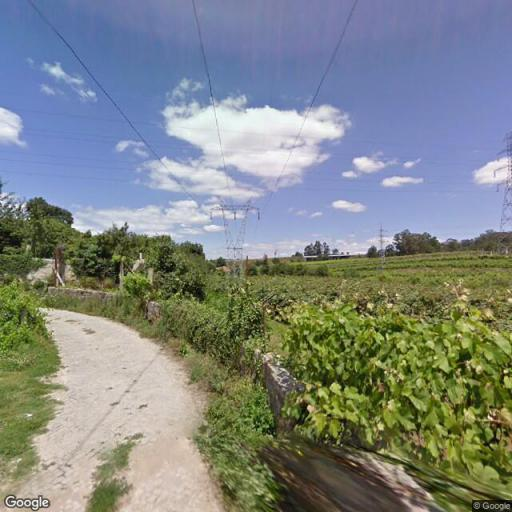ss_3: (493, 130, 511, 254), (374, 223, 390, 258)
wt_6: (210, 197, 262, 279)
